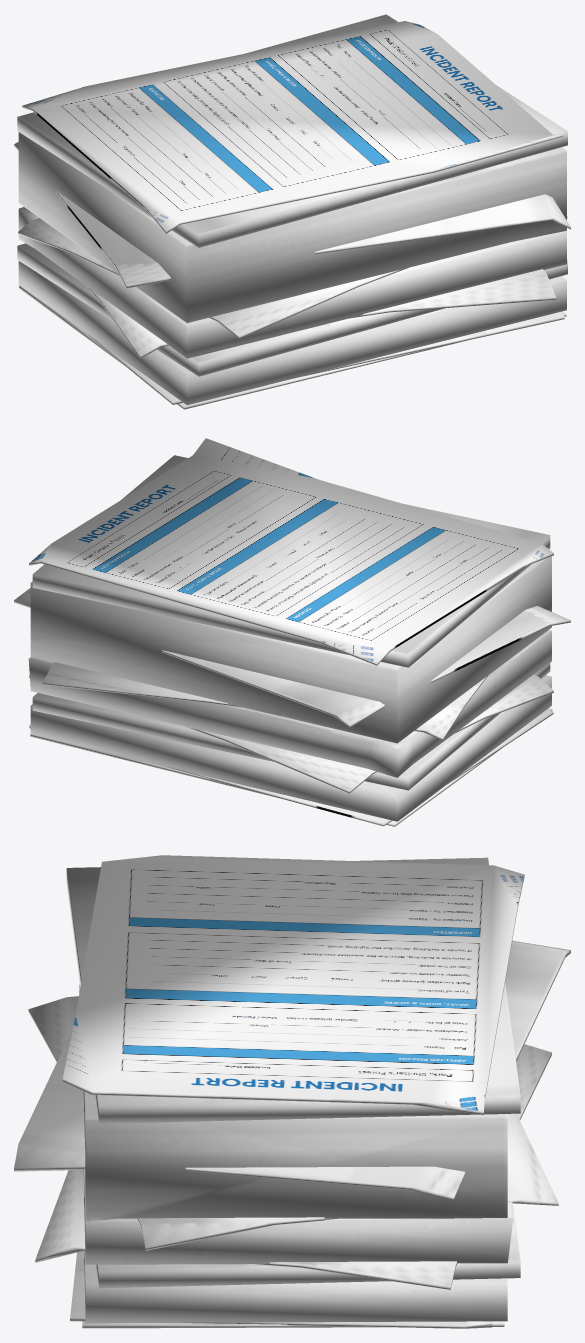
Rendered from PaperStack1.fbx.
The picture shows the model from 3 angles, top to bottom: view 1: azimuth 30°, elevation 25°; view 2: azimuth 150°, elevation 25°; view 3: azimuth 270°, elevation 25°; orthographic projection. The views are drawn at different scales.
Visible parts, largest first — view 1: PaperStack1; view 2: PaperStack1; view 3: PaperStack1.
Part boxes in pixels (<box>): PaperStack1: <box>14,14,570,409</box>; PaperStack1: <box>14,438,570,826</box>; PaperStack1: <box>14,855,570,1328</box>.
Size of the model in its own units: 41.77 by 16.61 by 34.48.
